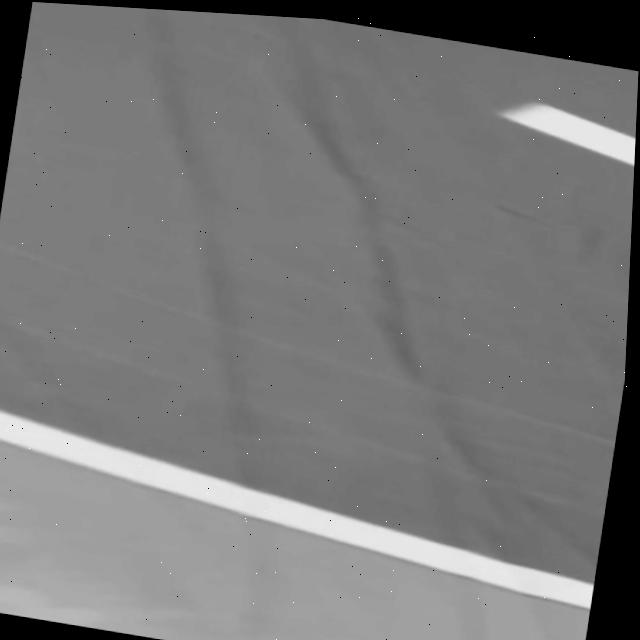center: (499, 102, 636, 164)
right: (0, 409, 594, 607)
